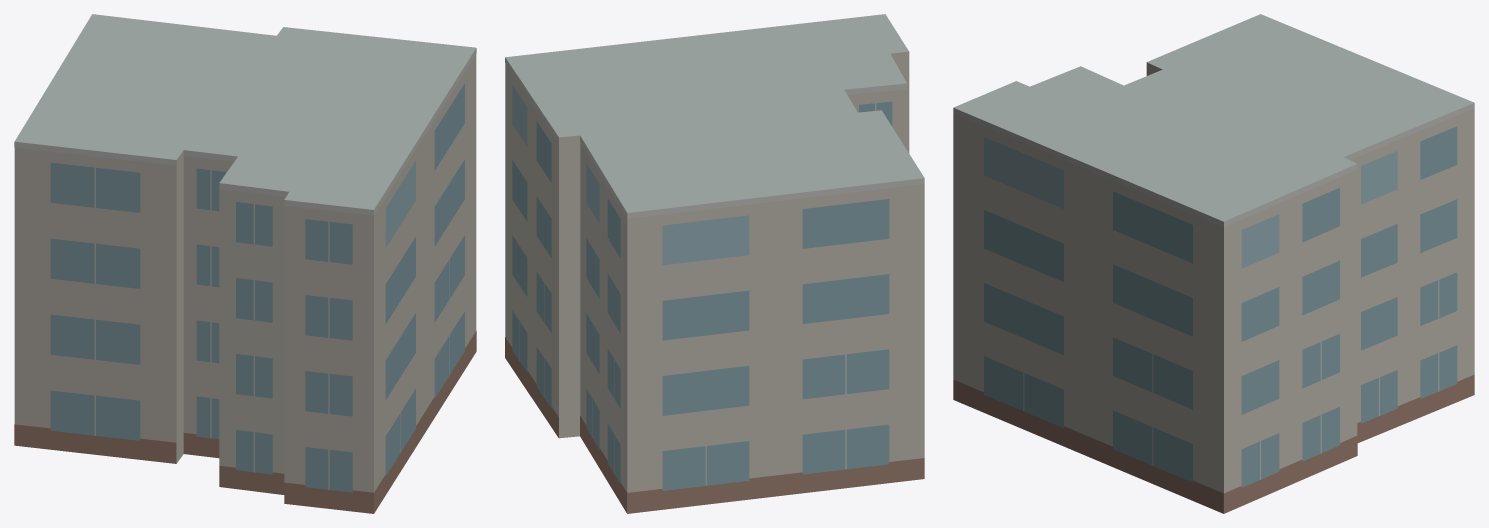
Rendered from survey-upis-32725833.glb.
The picture shows the model from 3 angles, left to right: view 1: azimuth 30°, elevation 25°; view 2: azimuth 150°, elevation 25°; view 3: azimuth 270°, elevation 25°; orthographic projection. The views are drawn at different scales.
Parts seen in each view (by area): view 1: survey-upis-32725833.tmp; view 2: survey-upis-32725833.tmp; view 3: survey-upis-32725833.tmp.
Part boxes in pixels (box(x1,y1,x2,y2)): survey-upis-32725833.tmp: box(14, 14, 476, 513); survey-upis-32725833.tmp: box(505, 14, 924, 513); survey-upis-32725833.tmp: box(953, 14, 1474, 513).
Bounding box in the file's own units: 19.37 × 12.7 × 20.55.
